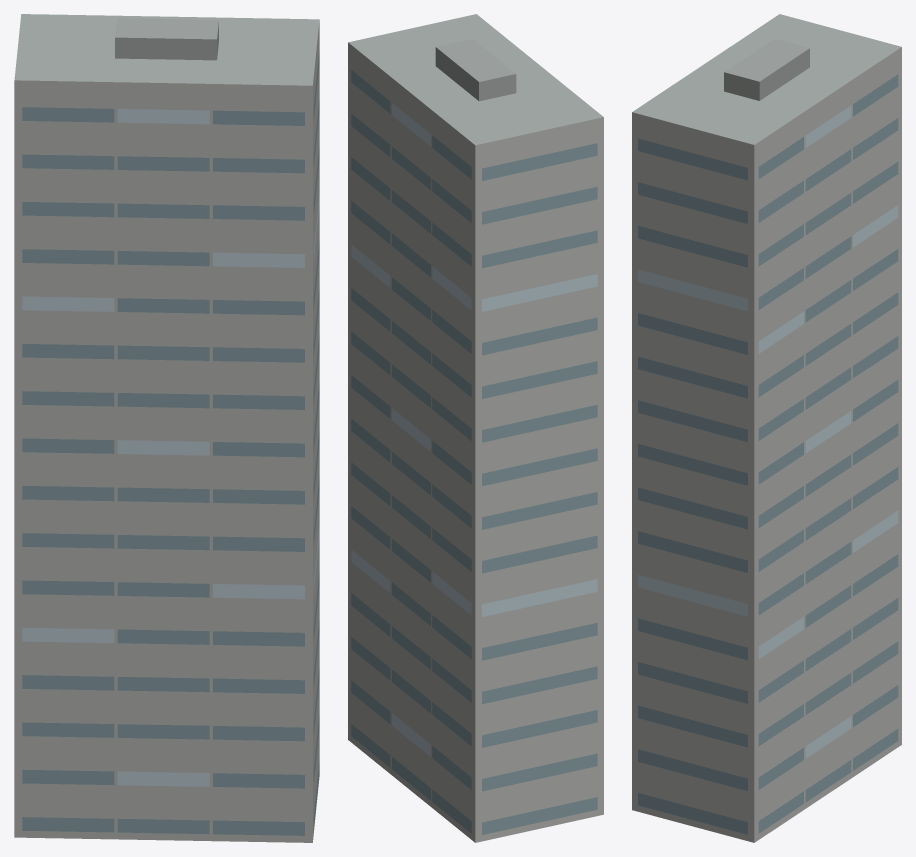
Rendered from fallback-jamsil-parkrio-221.glb.
3 renders of one model, left to right at view 1: azimuth 30°, elevation 25°; view 2: azimuth 150°, elevation 25°; view 3: azimuth 270°, elevation 25°, orthographic. The views are drawn at different scales.
Parts seen in each view (by area): view 1: fallback-jamsil-parkrio-221; view 2: fallback-jamsil-parkrio-221; view 3: fallback-jamsil-parkrio-221.
Part boxes in pixels (x1,y1,x2,y2): fallback-jamsil-parkrio-221: [14, 14, 319, 842]; fallback-jamsil-parkrio-221: [348, 14, 603, 842]; fallback-jamsil-parkrio-221: [632, 14, 901, 842].
Bounding box in the file's own units: 34.87 × 89 × 30.36.
